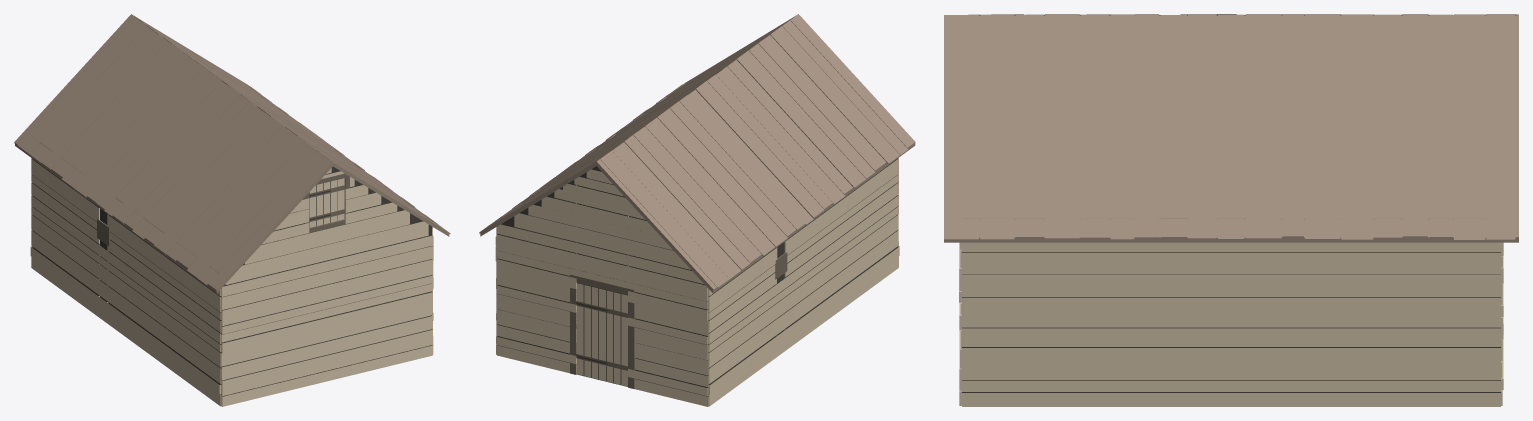
File: recon_1835_west_023__inferred_1835.glb
3 views of the same model, side by side, from view 1: azimuth 30°, elevation 25°; view 2: azimuth 150°, elevation 25°; view 3: azimuth 270°, elevation 25° (orthographic). The views are drawn at different scales.
Parts seen in each view (by area): view 1: recon_1835_west_023__inferred_1835; view 2: recon_1835_west_023__inferred_1835; view 3: recon_1835_west_023__inferred_1835.
Part boxes in pixels (box(x1,y1,x2,y2)): recon_1835_west_023__inferred_1835: box(14, 14, 450, 406); recon_1835_west_023__inferred_1835: box(479, 14, 915, 406); recon_1835_west_023__inferred_1835: box(944, 14, 1518, 406).
Size of the model in its own units: 6.16 by 5.57 by 9.1.
